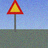sign: (6, 0, 24, 33)
